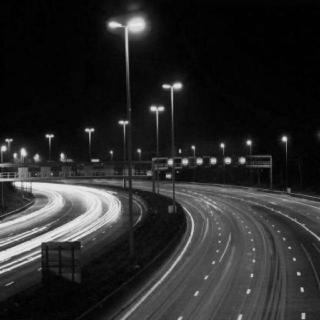other: (198, 210, 278, 308), (34, 185, 122, 237), (147, 77, 191, 116), (189, 135, 291, 151), (18, 142, 75, 168), (125, 15, 153, 43)
